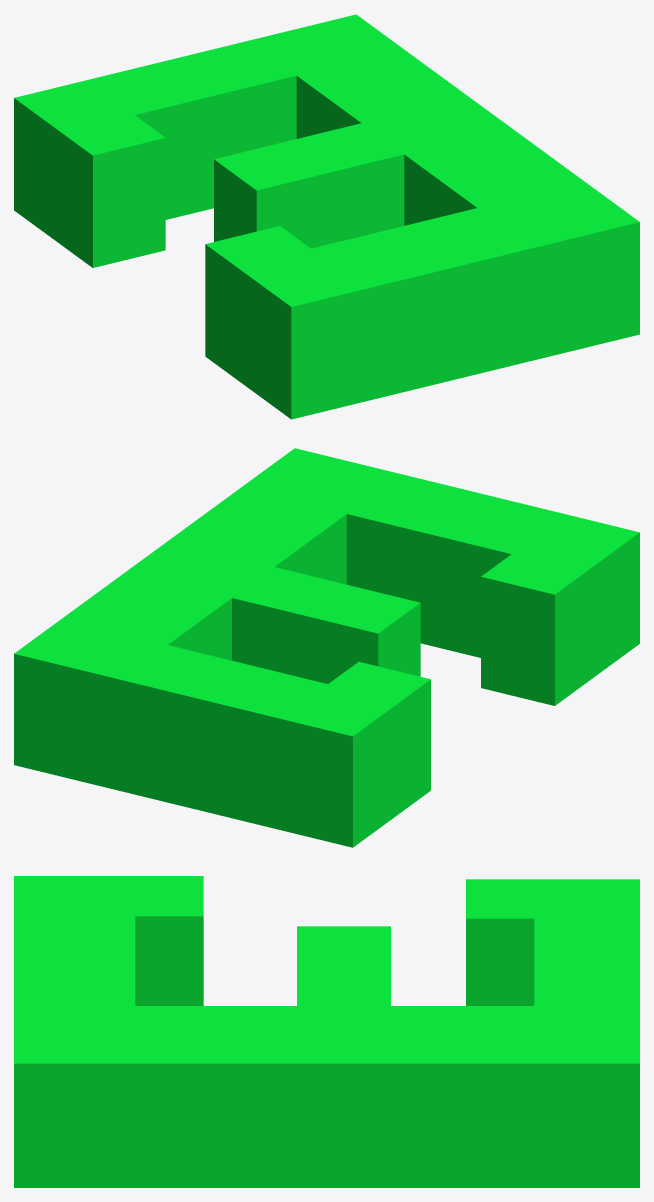
The model's file is LetterE.obj.
The picture shows the model from 3 angles, top to bottom: view 1: azimuth 30°, elevation 25°; view 2: azimuth 150°, elevation 25°; view 3: azimuth 270°, elevation 25°; orthographic projection. The views are drawn at different scales.
Visible parts, largest first — view 1: LetterE; view 2: LetterE; view 3: LetterE.
Part boxes in pixels (<box>): LetterE: <box>14,14,639,419</box>; LetterE: <box>14,448,639,847</box>; LetterE: <box>14,876,639,1187</box>.
Bounding box in the file's own units: 3.24 × 1 × 4.57.
